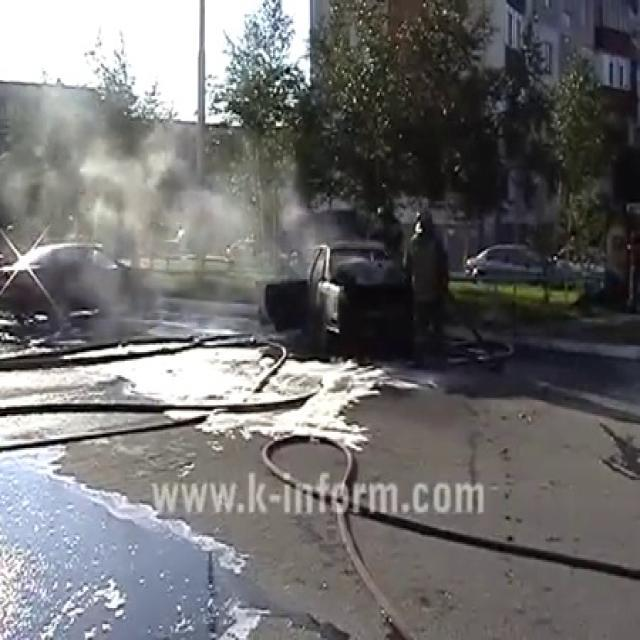Smoke: (0, 51, 317, 342)
